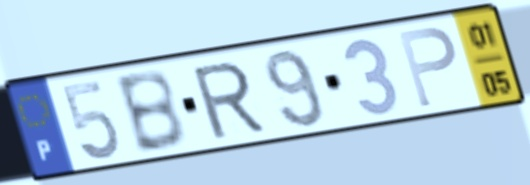3: (340, 34, 402, 118)
5: (58, 75, 122, 163)
9: (260, 46, 328, 130)
B: (110, 66, 190, 157)
P: (394, 24, 460, 111)
R: (187, 57, 269, 143)
